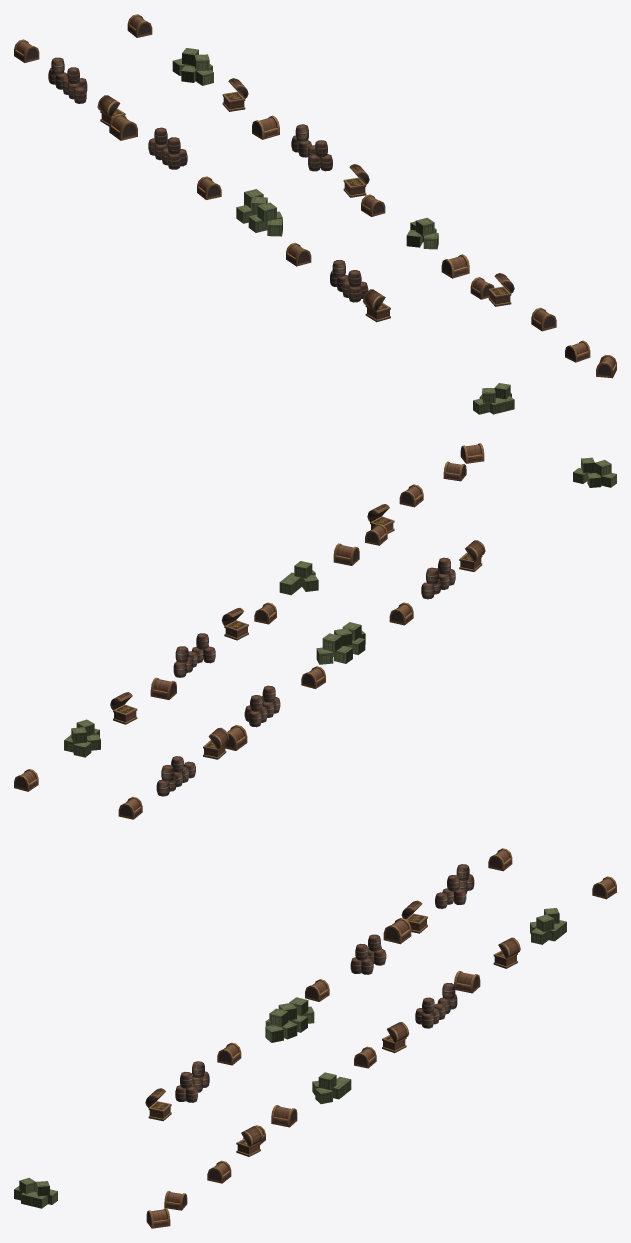
Rendered from wujian33.fbx.
The picture shows the model from 3 angles, top to bottom: view 1: azimuth 30°, elevation 25°; view 2: azimuth 150°, elevation 25°; view 3: azimuth 330°, elevation 25°; orthographic projection. The views are drawn at different scales.
Parts seen in each view (by area): view 1: wujian33; view 2: wujian33; view 3: wujian33.
Part boxes in pixels (x1,y1,x2,y2): wujian33: [14, 14, 616, 414]; wujian33: [14, 443, 616, 819]; wujian33: [14, 848, 616, 1228].
Size of the model in its own units: 1459 by 242 by 8206.
Materials: 1 (1 with a texture image).
